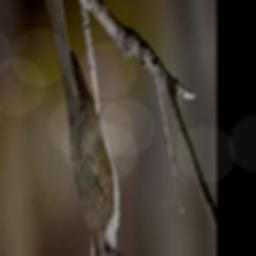Cuckoo: (40, 0, 126, 256)
